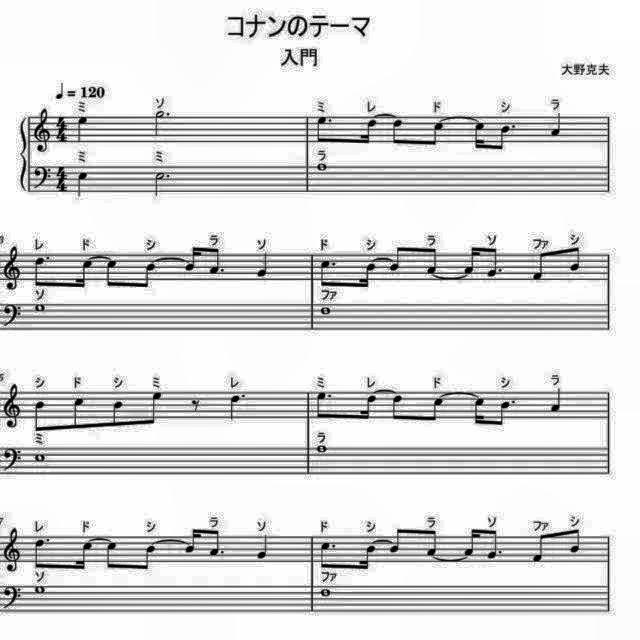Bass-clef: (1, 301, 26, 331), (0, 580, 24, 611), (0, 444, 24, 474), (32, 163, 52, 190)
Eighth-note: (142, 389, 166, 431), (134, 543, 160, 577), (31, 253, 54, 291), (492, 120, 516, 156), (482, 526, 506, 562), (492, 396, 516, 432), (31, 535, 53, 573), (318, 539, 342, 573), (136, 261, 160, 295), (68, 394, 88, 434), (101, 254, 122, 292), (484, 246, 506, 282), (424, 119, 448, 151), (28, 398, 48, 436), (316, 256, 338, 290), (206, 525, 228, 559), (102, 538, 122, 574), (206, 247, 228, 279), (424, 396, 446, 428), (532, 535, 552, 569), (385, 116, 405, 150), (532, 252, 552, 286), (388, 392, 408, 424), (422, 526, 442, 558), (314, 388, 334, 420), (313, 112, 333, 144), (386, 242, 406, 274), (422, 247, 442, 277), (564, 526, 584, 556), (564, 246, 584, 276), (384, 528, 404, 558), (108, 398, 126, 430)
Eighth-rest: (188, 397, 204, 419)
Full-note: (30, 300, 50, 316), (31, 450, 49, 466), (318, 305, 334, 319), (313, 162, 331, 174), (312, 444, 330, 456), (29, 584, 47, 596), (318, 586, 334, 598)
Half-dot: (151, 108, 173, 140), (150, 169, 172, 199)
Quarter-dot: (226, 390, 250, 422)
Quarter-note: (254, 534, 274, 562), (548, 110, 568, 138), (252, 252, 272, 280), (548, 388, 568, 416), (74, 115, 90, 145), (74, 169, 90, 199)
Sixteenth-note: (72, 254, 96, 294), (70, 540, 94, 576), (354, 541, 378, 575), (471, 394, 492, 431), (354, 260, 378, 292), (356, 117, 379, 149), (468, 118, 488, 154), (354, 394, 378, 424), (181, 242, 203, 274), (181, 524, 203, 556), (461, 245, 479, 279), (461, 526, 479, 558)
Treble-clef: (0, 382, 24, 432), (0, 245, 24, 295), (0, 526, 24, 574), (32, 108, 54, 156)
